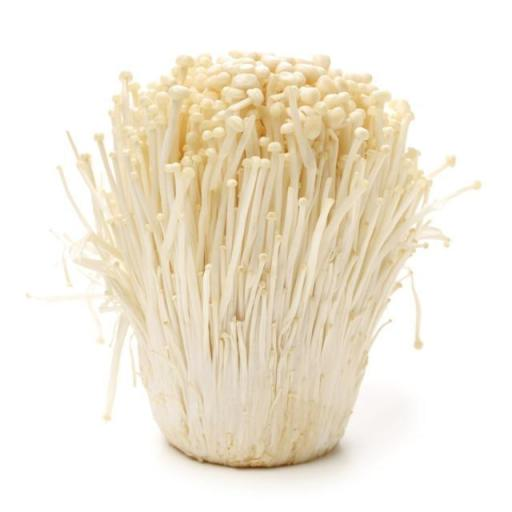Enoki Mushroom: (57, 52, 482, 467)
